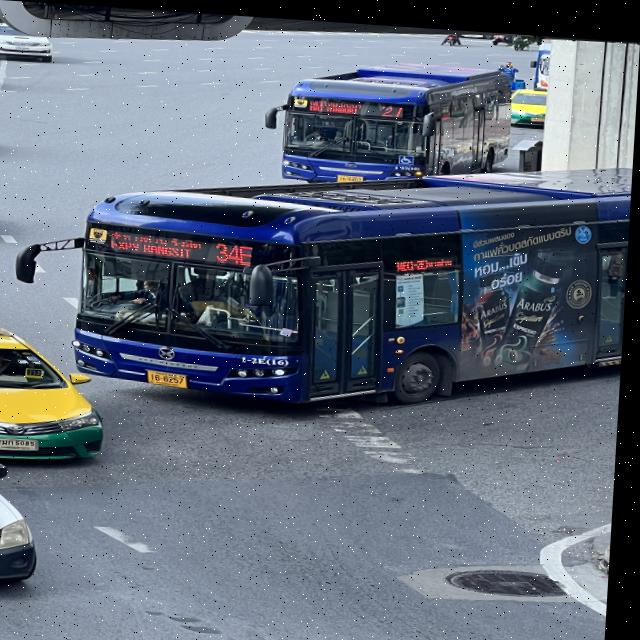Bus Line Number: (212, 235, 264, 265), (379, 96, 410, 113)
Bus Side Number: (243, 349, 300, 366), (393, 159, 424, 167)
Destination Sign: (109, 227, 215, 261), (303, 89, 376, 112)
TSB-Bus: (19, 163, 634, 402), (267, 59, 515, 181)
